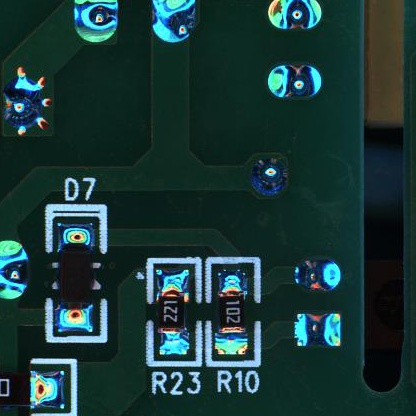spot: (1, 67, 52, 136), (267, 61, 322, 99), (292, 257, 342, 295), (1, 239, 31, 302), (292, 313, 343, 348), (266, 1, 324, 31), (249, 158, 289, 196)
